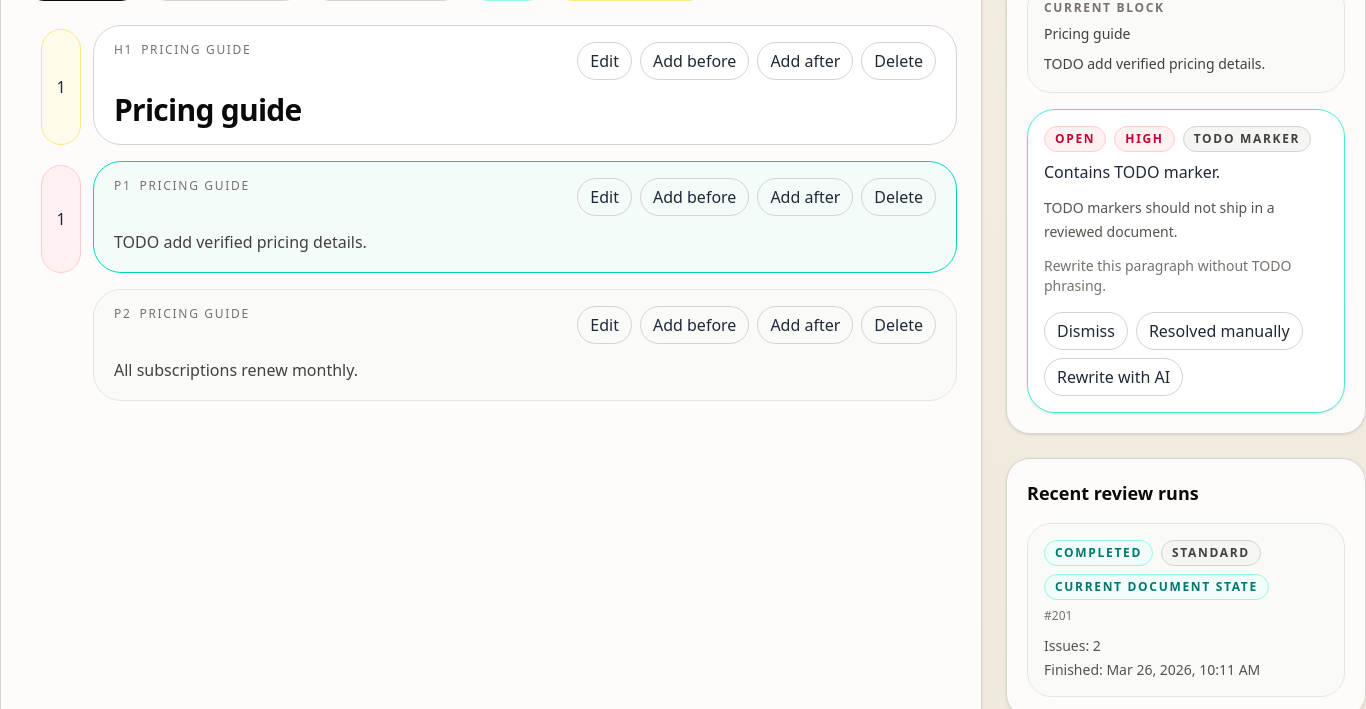
Test: AIReviewEditor frontend › enters block edit mode and allows cancel without persisting changes
(page scrolled)
Step 1. Click the button "Edit" in the row of "p2" → (605, 325), box [577,306,632,344]
(page scrolled)
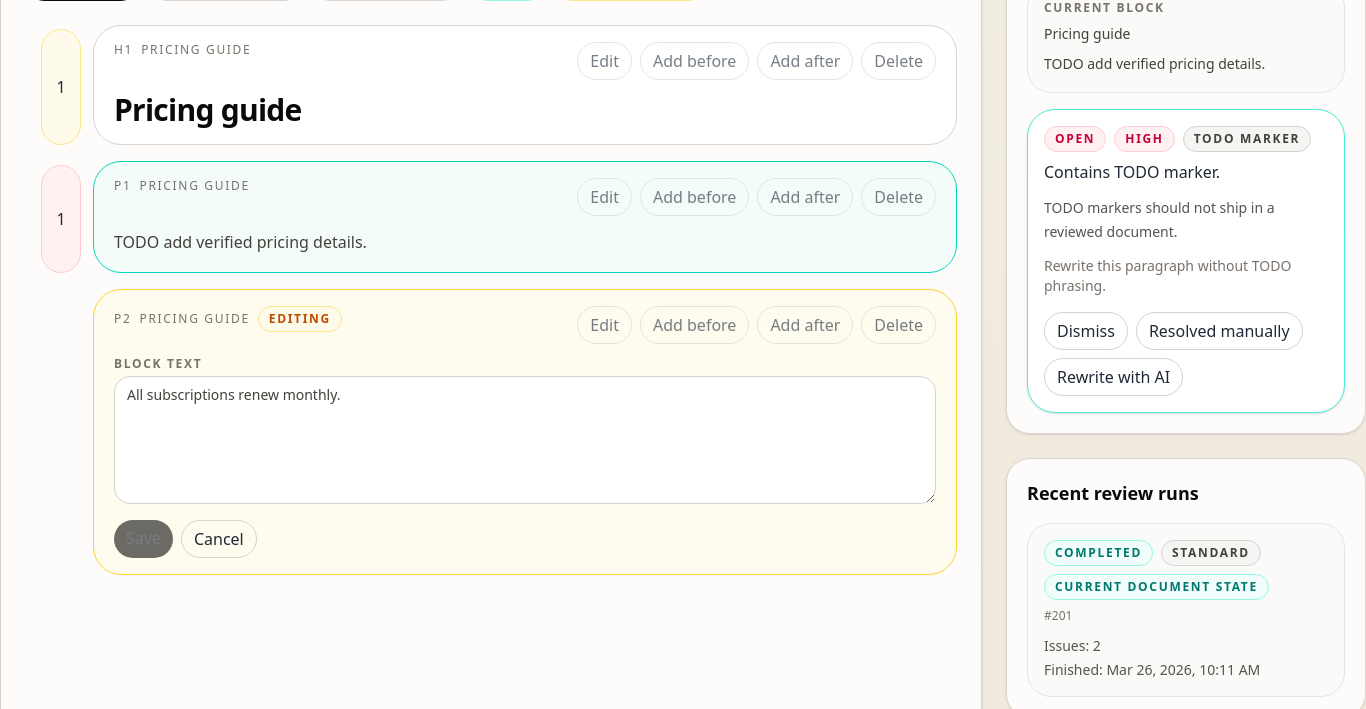
Expected: the text box holds "All subscriptions renew monthly."
Step 2. Replace the text in the text box with "All subscriptions renew yearly." → (525, 440), box [114,376,936,504]
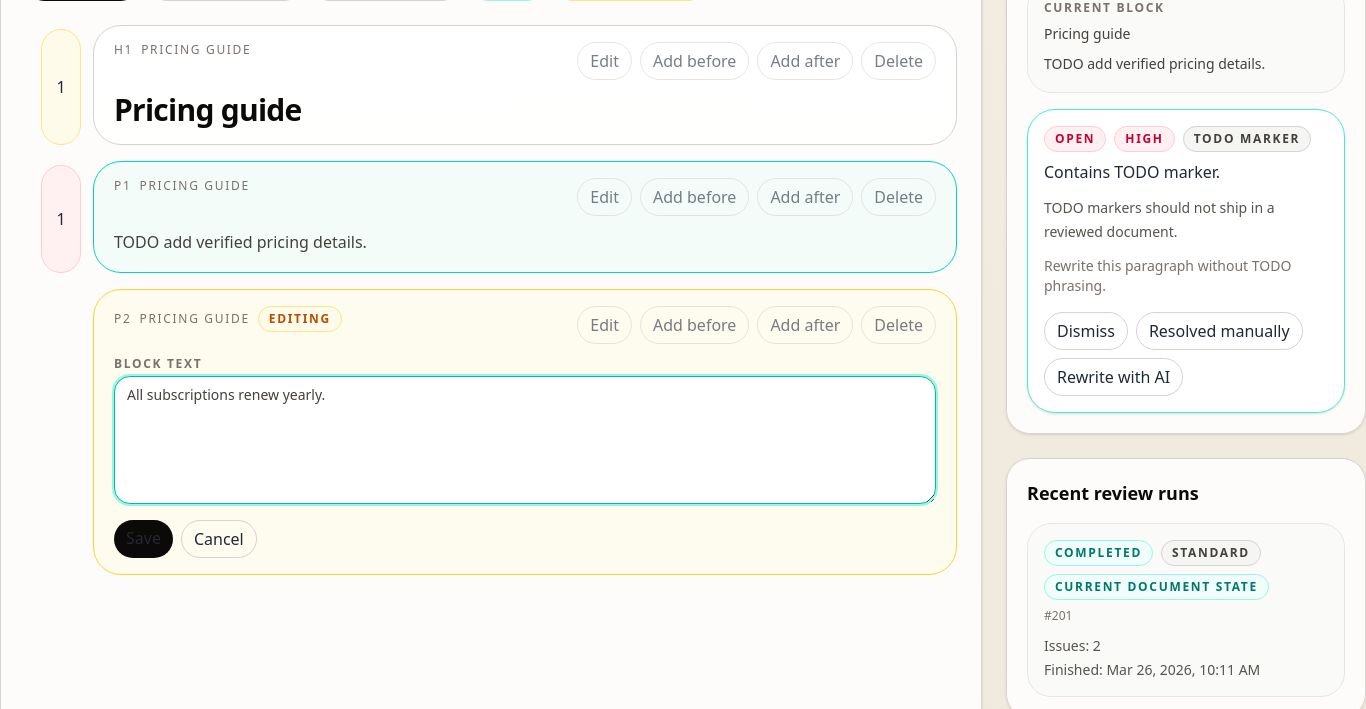
Step 3. Click the button "Cancel" → (219, 539), box [181,520,257,558]
(page scrolled)
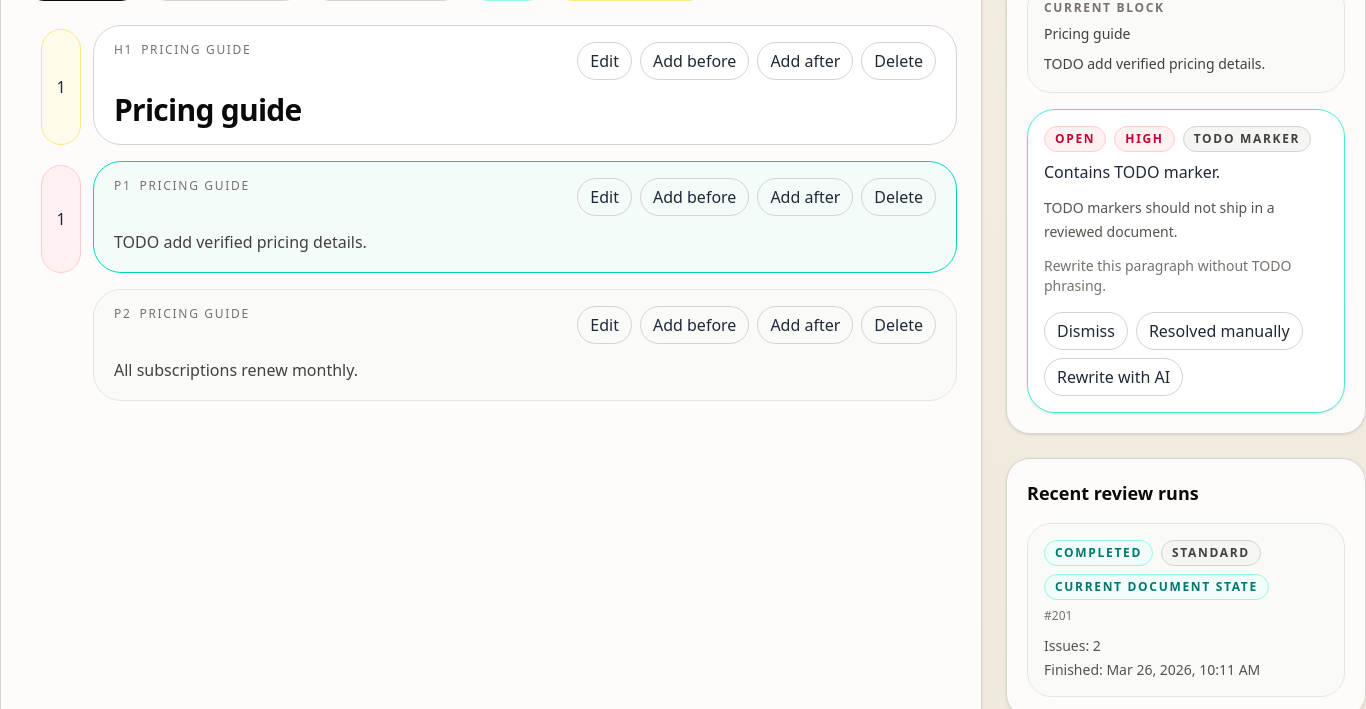
Expected: the field showing "All subscriptions renew yearly." is not shown
Expected: the text "All subscriptions renew monthly." is shown, [114,359,358,381]
